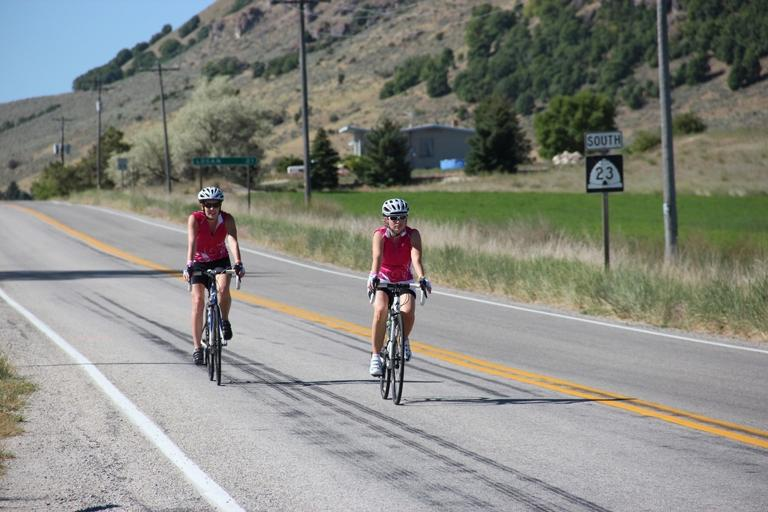non-vehicle: (369, 277, 426, 404), (187, 266, 242, 386)
